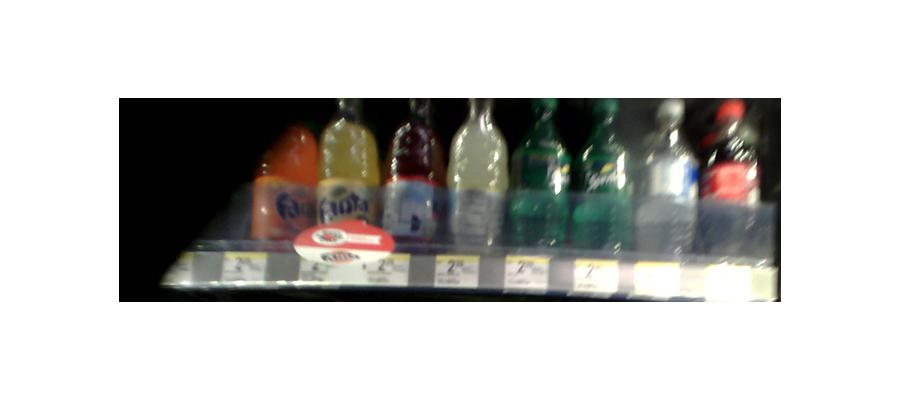bottle: (699, 97, 761, 264), (316, 96, 378, 244), (447, 97, 506, 252), (575, 100, 634, 254), (509, 100, 568, 252), (383, 104, 443, 248), (251, 110, 315, 245), (637, 103, 693, 256)
